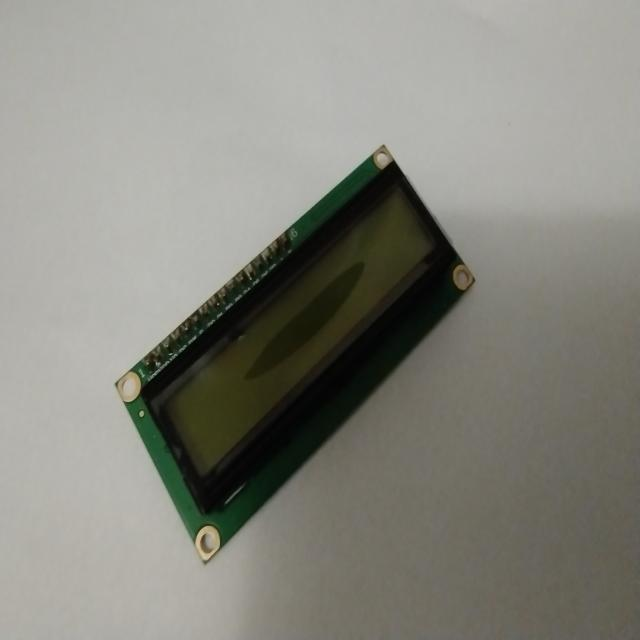lcd: (113, 142, 476, 564)
